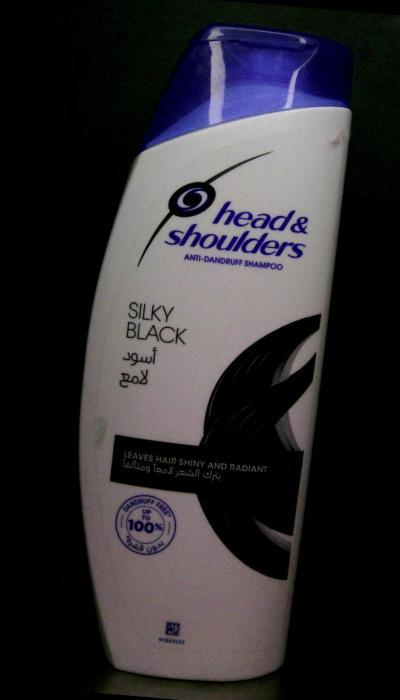tear_unacc: (310, 110, 352, 163), (82, 409, 119, 458)
